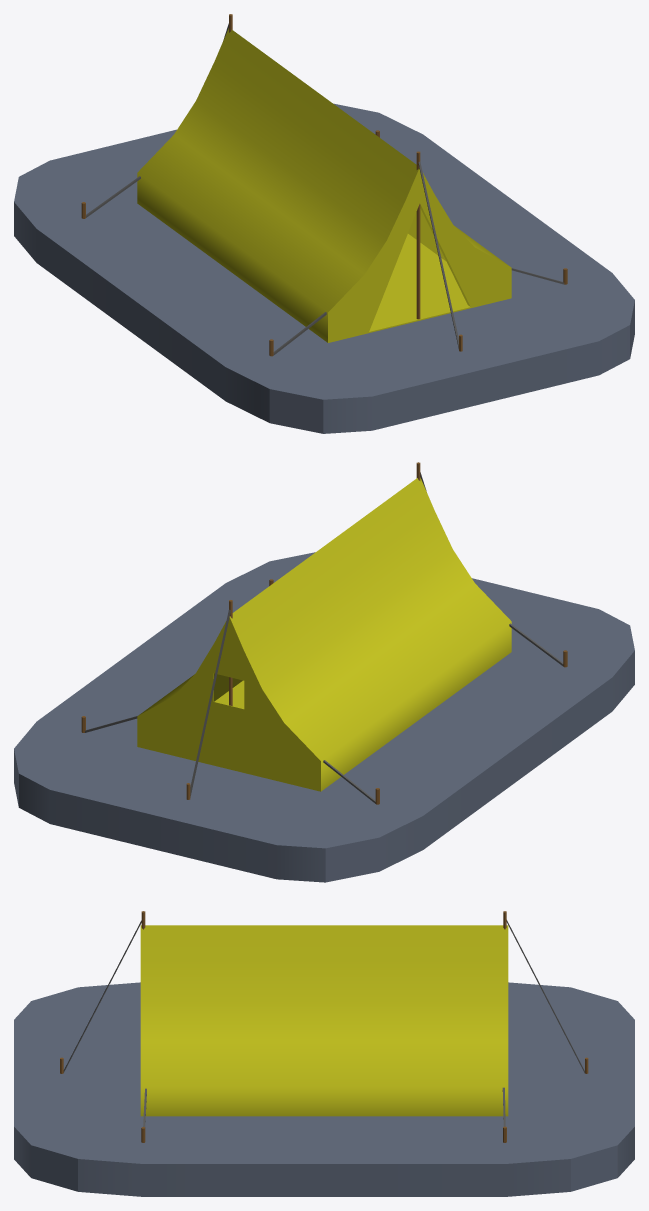
The model's file is Tent_Yellow.fbx.
3 views of the same model, one above another, from view 1: azimuth 30°, elevation 25°; view 2: azimuth 150°, elevation 25°; view 3: azimuth 270°, elevation 25° (orthographic). The views are drawn at different scales.
Parts seen in each view (by area): view 1: Tent; view 2: Tent; view 3: Tent.
Part boxes in pixels (x1=…): Tent: x1=14, y1=14, x2=634, y2=433; Tent: x1=14, y1=462, x2=634, y2=882; Tent: x1=14, y1=911, x2=634, y2=1196.
Size of the model in its own units: 10.53 by 5.24 by 15.2.
